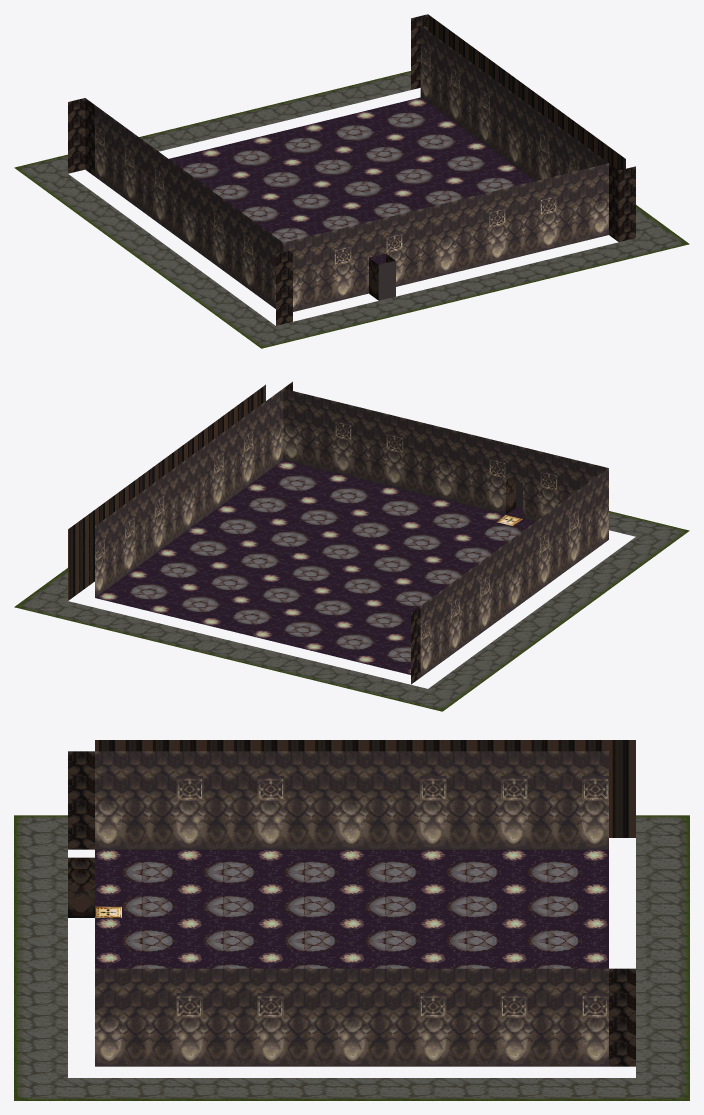
File: catalog.obj
3 views of the same model, one above another, from view 1: azimuth 30°, elevation 25°; view 2: azimuth 150°, elevation 25°; view 3: azimuth 270°, elevation 25° (orthographic). The views are drawn at different scales.
Parts seen in each view (by area): view 1: cell_12_9, cell_30_9, cell_25_9, cell_13_9, cell_15_9, cell_20_9, cell_22_9, cell_23_9, cell_27_9, cell_31_28, cell_28_9, cell_29_9 (+42 smaller); view 2: cell_12_9, cell_16_9, cell_21_9, cell_23_9, cell_13_9, cell_18_9, cell_19_9, cell_14_9, cell_15_9, cell_20_9, cell_22_9, cell_26_9 (+46 smaller); view 3: cell_30_9, cell_30_10, cell_30_11, cell_30_12, cell_30_13, cell_30_14, cell_30_15, cell_30_16, cell_30_17, cell_30_18, cell_30_19, cell_30_20 (+29 smaller).
Boxes of the visible parts, x1,y1,x2,y2 form: cell_12_9: (591,156,635,241); cell_30_9: (273,236,300,325); cell_25_9: (369,217,395,300); cell_13_9: (574,167,591,243); cell_15_9: (540,176,557,251); cell_20_9: (454,197,471,272); cell_22_9: (420,205,437,280); cell_23_9: (403,209,420,284); cell_27_9: (334,226,351,301); cell_31_28: (68,98,85,173); cell_28_9: (317,230,334,305); cell_29_9: (300,234,317,310); cell_12_9: (273,381,300,471); cell_16_9: (342,405,368,488); cell_21_9: (428,426,454,509); cell_23_9: (462,434,488,517); cell_13_9: (290,393,317,475); cell_18_9: (376,414,403,496); cell_19_9: (393,418,420,500); cell_14_9: (308,397,334,479); cell_15_9: (325,401,351,484); cell_20_9: (411,422,437,505); cell_22_9: (445,430,471,513); cell_26_9: (513,447,540,528); cell_30_9: (68,751,121,860); cell_30_10: (122,751,149,860); cell_30_11: (149,751,176,860); cell_30_12: (176,751,203,860); cell_30_13: (203,751,230,860); cell_30_14: (230,751,257,860); cell_30_15: (257,751,284,860); cell_30_16: (284,751,311,860); cell_30_17: (311,751,338,860); cell_30_18: (338,751,365,860); cell_30_19: (365,751,392,860); cell_30_20: (392,751,419,860).
Bounding box in the file's own units: 0.3906 × 0.0625 × 0.3906.
Materials: 10 (10 with a texture image).
